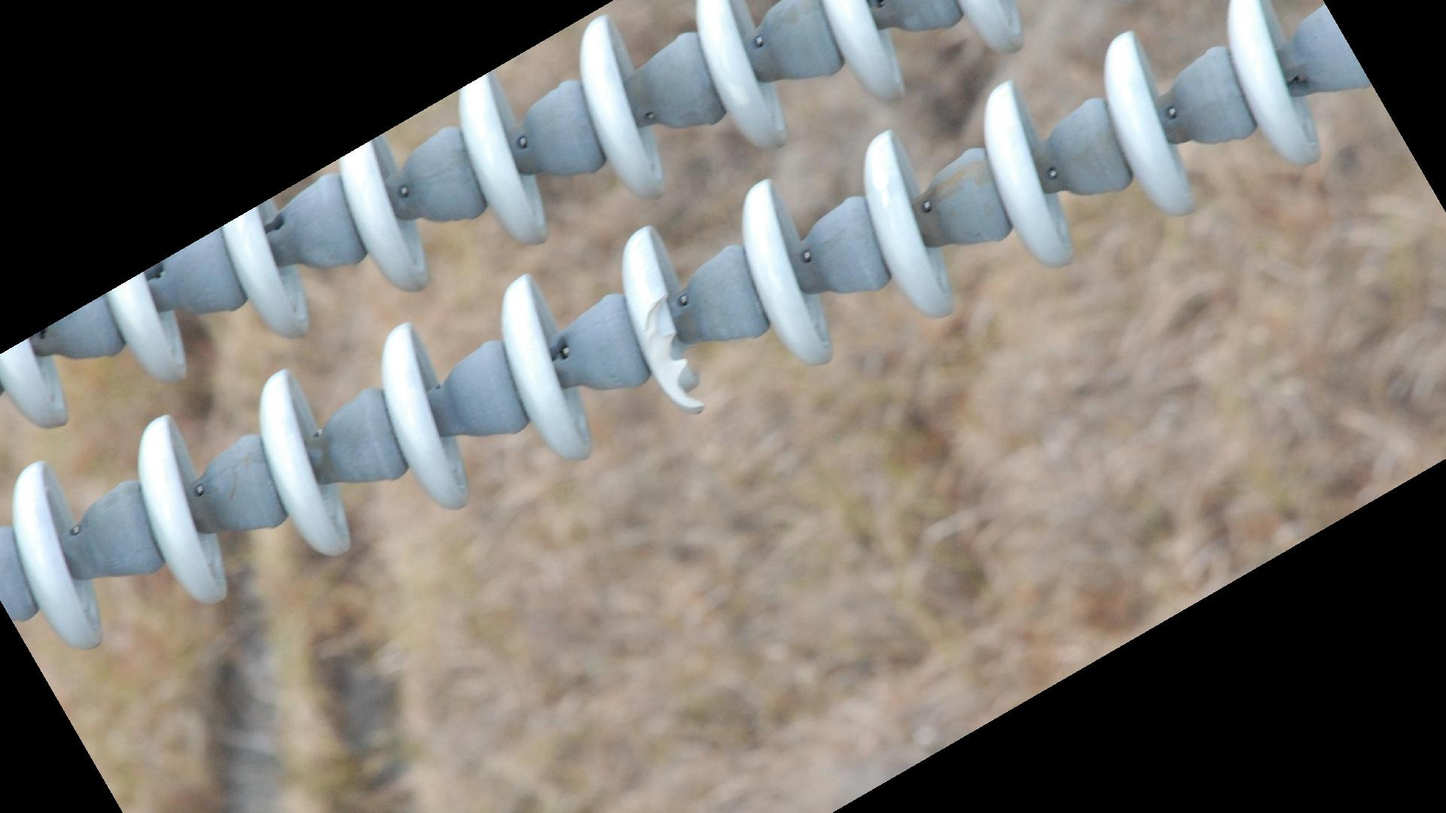insulator: (7, 1, 1329, 660), (1, 1, 1033, 442)
insulator_breakage: (636, 285, 712, 418)
